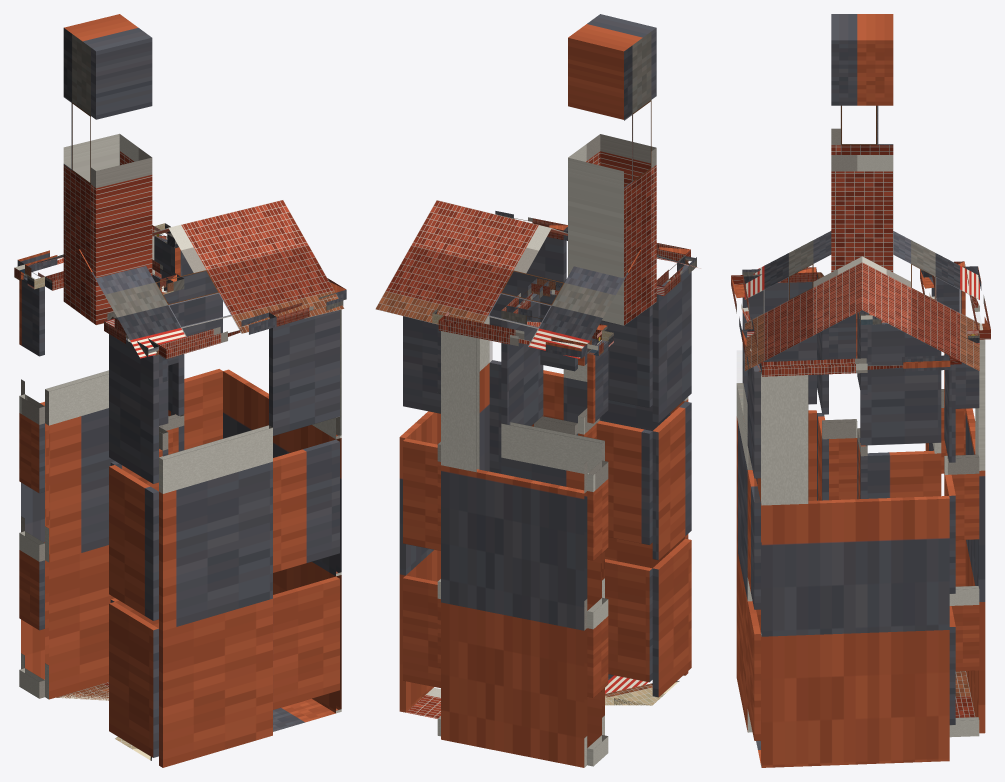
3 views of the same model, side by side, from view 1: azimuth 30°, elevation 25°; view 2: azimuth 150°, elevation 25°; view 3: azimuth 270°, elevation 25° (orthographic). The views are drawn at different scales.
Parts seen in each view (by area): view 1: 392631167__wall_12_xb, 392631167__wall_11_xb, 392631167__chimney_0_xb, 392631167__wall_5_xb, 392631167__wall_0_xb, 392631167_roof_-1_xb, 392631167__wall_6_xb, 392631167__wall_10_xb, 392631167__wall_9_xb, 392631167__wall_7_xb, 392631167__base, 392631167__cornice_12 (+7 smaller); view 2: 392631167__wall_7_xb, 392631167__chimney_0_xb, 392631167_roof_1_xb, 392631167__wall_0_xb, 392631167__wall_1_xb, 392631167__wall_9_xb, 392631167__wall_5_xb, 392631167__wall_6_xb, 392631167__wall_10_xb, 392631167__wall_11_xb, 392631167__wall_4_xb, 392631167__wall_12_xb (+6 smaller); view 3: 392631167__wall_10_xb, 392631167__chimney_0_xb, 392631167__wall_4_xb, 392631167_roof_-1_xb, 392631167_roof_1_xb, 392631167__wall_8_xb, 392631167__wall_11_xb, 392631167__wall_7_xb, 392631167__wall_12_xb, 392631167__wall_2_xb, 392631167__wall_0_xb, 392631167__wall_9_xb (+8 smaller).
Part boxes in pixels (left/top/right/bottom): 392631167__wall_12_xb: left=159, top=425, right=272, bottom=767; 392631167__wall_11_xb: left=269, top=310, right=339, bottom=709; 392631167__chimney_0_xb: left=63, top=14, right=152, bottom=325; 392631167__wall_5_xb: left=45, top=370, right=114, bottom=699; 392631167__wall_0_xb: left=109, top=334, right=158, bottom=757; 392631167_roof_-1_xb: left=79, top=200, right=344, bottom=358; 392631167__wall_6_xb: left=19, top=276, right=44, bottom=698; 392631167__wall_10_xb: left=223, top=309, right=341, bottom=713; 392631167__wall_9_xb: left=171, top=246, right=222, bottom=449; 392631167__wall_7_xb: left=21, top=236, right=154, bottom=679; 392631167__base: left=44, top=679, right=335, bottom=760; 392631167__cornice_12: left=159, top=312, right=276, bottom=358; 392631167__wall_7_xb: left=441, top=331, right=587, bottom=767; 392631167__chimney_0_xb: left=568, top=14, right=656, bottom=325; 392631167_roof_1_xb: left=375, top=200, right=640, bottom=358; 392631167__wall_0_xb: left=652, top=265, right=691, bottom=697; 392631167__wall_1_xb: left=596, top=305, right=652, bottom=682; 392631167__wall_9_xb: left=403, top=316, right=440, bottom=687; 392631167__wall_5_xb: left=501, top=422, right=604, bottom=747; 392631167__wall_6_xb: left=587, top=340, right=608, bottom=766; 392631167__wall_10_xb: left=399, top=315, right=489, bottom=712; 392631167__wall_11_xb: left=489, top=237, right=566, bottom=473; 392631167__wall_4_xb: left=501, top=293, right=543, bottom=425; 392631167__wall_12_xb: left=563, top=363, right=688, bottom=675; 392631167__wall_10_xb: left=761, top=372, right=949, bottom=767; 392631167__chimney_0_xb: left=831, top=14, right=893, bottom=272; 392631167__wall_4_xb: left=860, top=322, right=941, bottom=498; 392631167_roof_-1_xb: left=744, top=231, right=862, bottom=370; 392631167_roof_1_xb: left=862, top=231, right=979, bottom=371; 392631167__wall_8_xb: left=944, top=353, right=979, bottom=737; 392631167__wall_11_xb: left=747, top=364, right=760, bottom=740; 392631167__wall_7_xb: left=965, top=323, right=985, bottom=733; 392631167__wall_12_xb: left=736, top=383, right=752, bottom=732; 392631167__wall_2_xb: left=822, top=313, right=857, bottom=500; 392631167__wall_0_xb: left=742, top=282, right=816, bottom=632; 392631167__wall_9_xb: left=944, top=353, right=955, bottom=724.
Bounding box in the file's own units: 0.6059 × 1.75 × 0.6284.
Materials: 1 (1 with a texture image).
